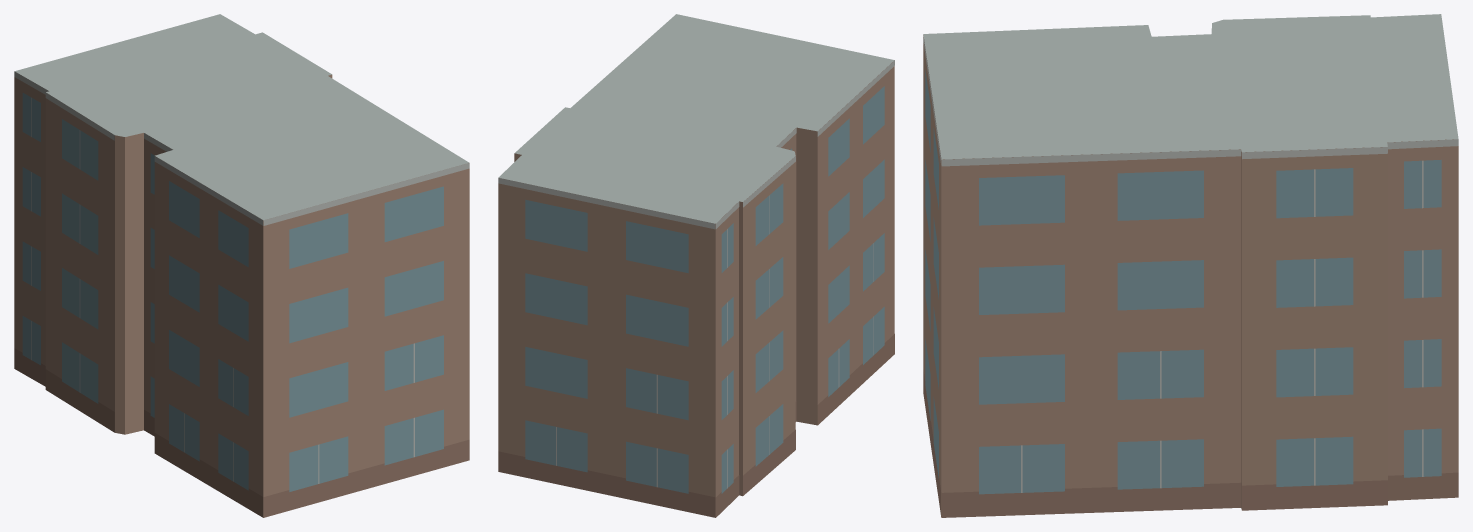
File: survey-upis-32797976.glb
The picture shows the model from 3 angles, left to right: view 1: azimuth 30°, elevation 25°; view 2: azimuth 150°, elevation 25°; view 3: azimuth 270°, elevation 25°; orthographic projection. The views are drawn at different scales.
Visible parts, largest first — view 1: survey-upis-32797976.tmp; view 2: survey-upis-32797976.tmp; view 3: survey-upis-32797976.tmp.
Part boxes in pixels (x1,y1,x2,y2): survey-upis-32797976.tmp: (14,14,469,517); survey-upis-32797976.tmp: (498,14,894,517); survey-upis-32797976.tmp: (923,14,1458,517).
Bounding box in the file's own units: 10.98 × 12.6 × 17.07.
